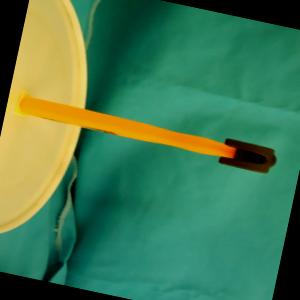martelo: (13, 92, 280, 175)
